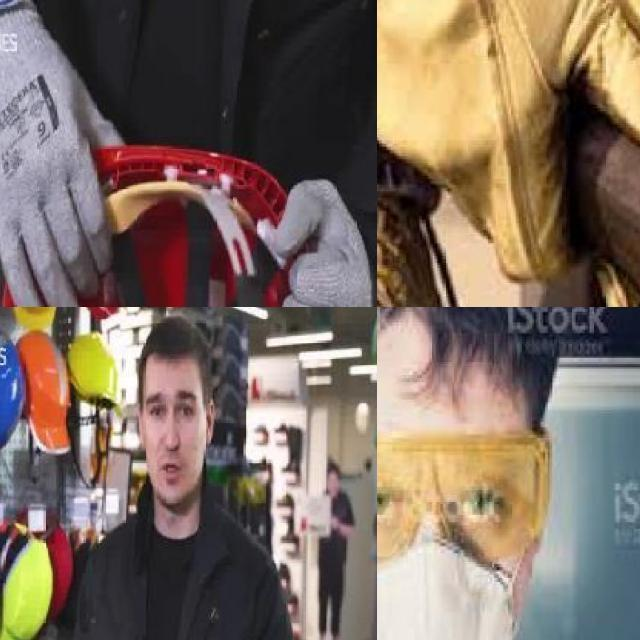apron: (377, 0, 591, 288), (0, 0, 127, 307), (565, 0, 640, 307), (273, 176, 375, 307)
